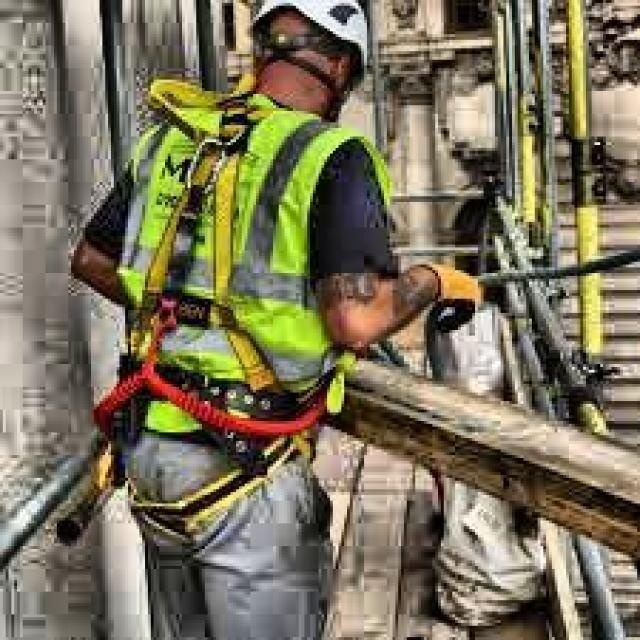Arnes_seguridad: (109, 80, 298, 422)
